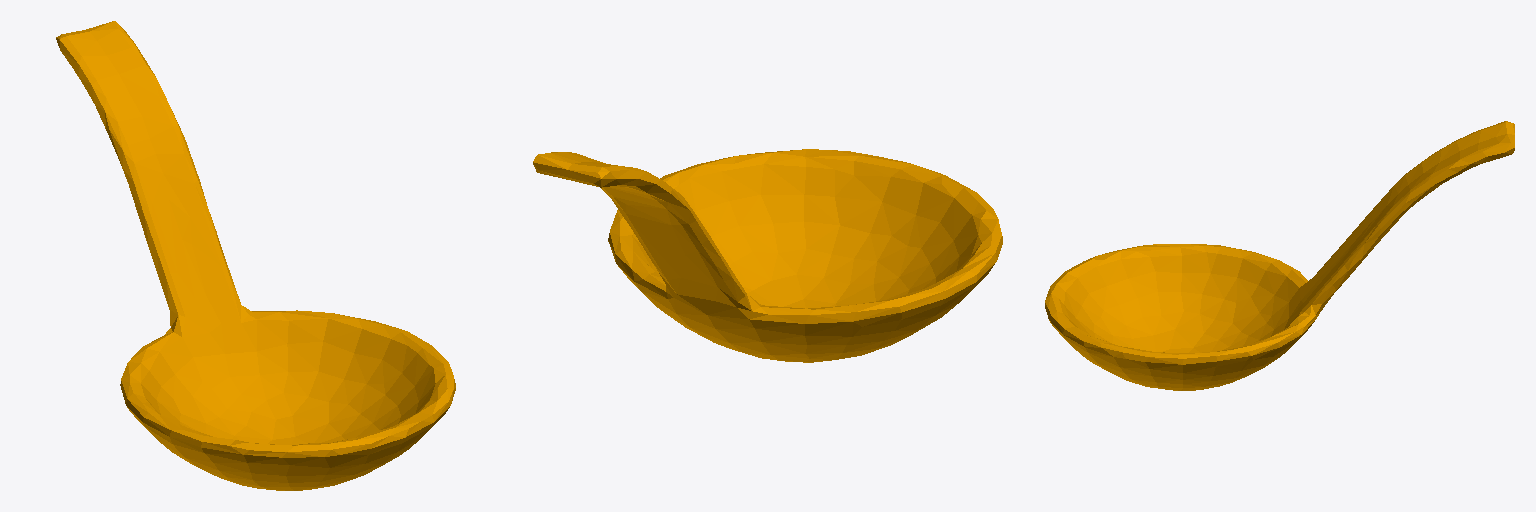
The robot description file, URDF, robot "ladle_poisson_000":
<?xml version="1.0"?>
<robot name="ladle_poisson_000">
  <link name="base_link">
    <contact>
      <lateral_friction value="1.0"/>
      <rolling_friction value="0.0"/>
      <contact_cfm value="0.0"/>
      <contact_erp value="1.0"/>
    </contact>
    <inertial>
      <mass value="0.246767001709"/>
      <inertia ixx="1" ixy="0" ixz="0" iyy="1" iyz="0" izz="1"/>
    </inertial>
    <visual>
      <geometry>
        <mesh filename="ladle_poisson_000_visual.obj"/>
      </geometry>
    </visual>
    <collision>
      <geometry>
        <mesh filename="ladle_poisson_000_collision.obj"/>
      </geometry>
    </collision>
  </link>
</robot>

--- Facts derived from the render (not from the file) ---
3 views of the same robot in one strip: view 1: azimuth 30°, elevation 25°; view 2: azimuth 150°, elevation 25°; view 3: azimuth 270°, elevation 25° (orthographic).
Model ladle_poisson_000 with 1 links and 0 joints (none), rooted at base_link, posed all joints at 0.
Visible links, largest first — view 1: base_link; view 2: base_link; view 3: base_link.
Link boxes in pixels (bbox=[...]): base_link: bbox=[56, 21, 455, 490]; base_link: bbox=[533, 149, 1002, 362]; base_link: bbox=[1045, 121, 1514, 390].
Bounding box of the posed robot: 0.07 × 0.1198 × 0.0697 m (x, y, z).
Meshes: 1 distinct files referenced, 1 mesh visuals loaded (1 OBJ).